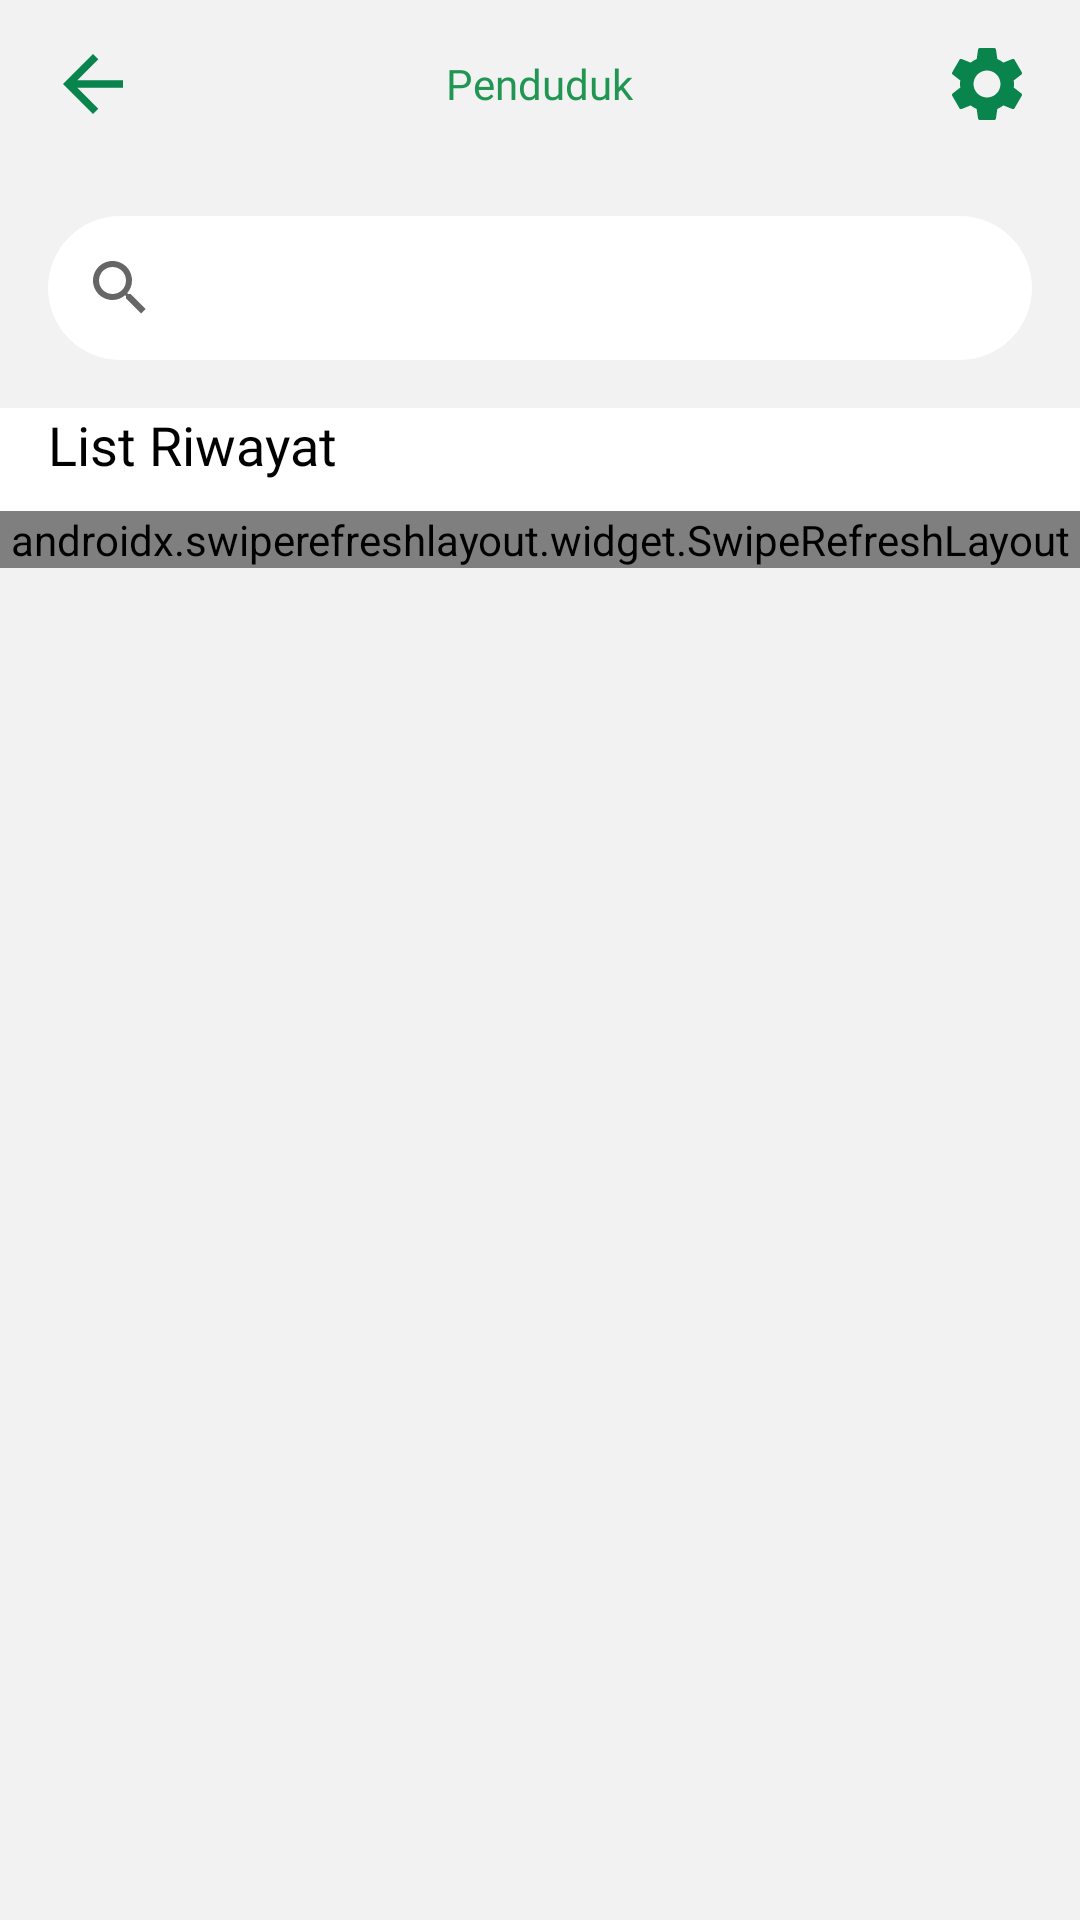

Named icons in this screenshot (1080 × 1920) and their centers, (x,y):
arrow back: (93,84)
sett: (987,84)
